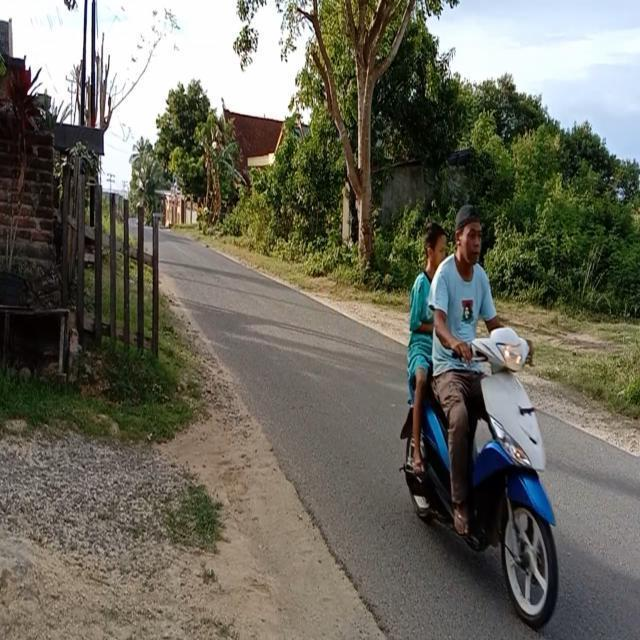motorcycle: (381, 182, 549, 614)
